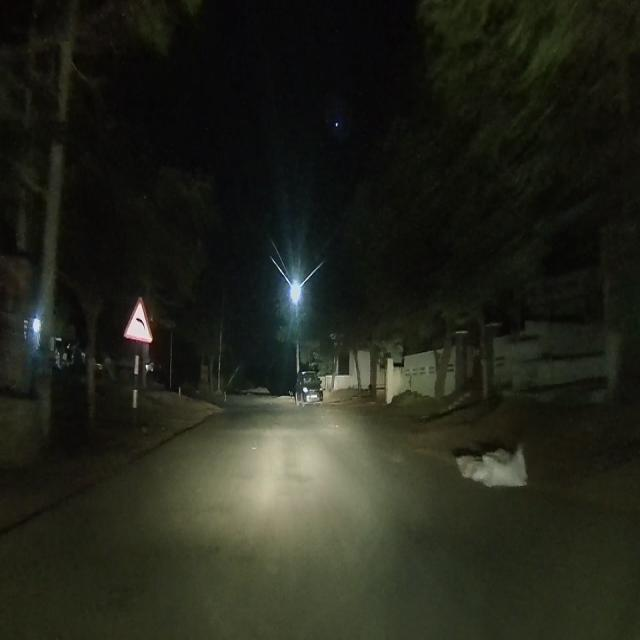left-hand-curve: (121, 294, 156, 340)
